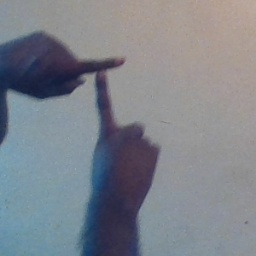T: (46, 42, 150, 141)
